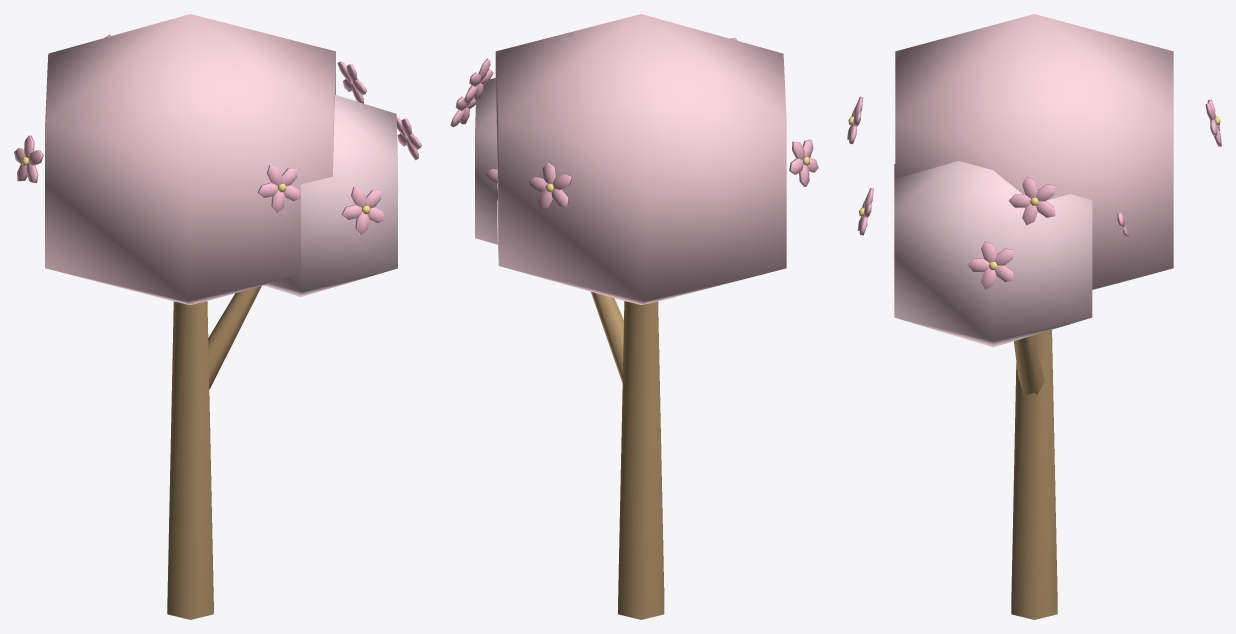
The model's file is tree_sapling_spring_low.glb.
3 renders of one model, left to right at view 1: azimuth 30°, elevation 25°; view 2: azimuth 150°, elevation 25°; view 3: azimuth 270°, elevation 25°, orthographic.
Bounding box in the file's own units: 1.04 × 1.59 × 0.9084.
